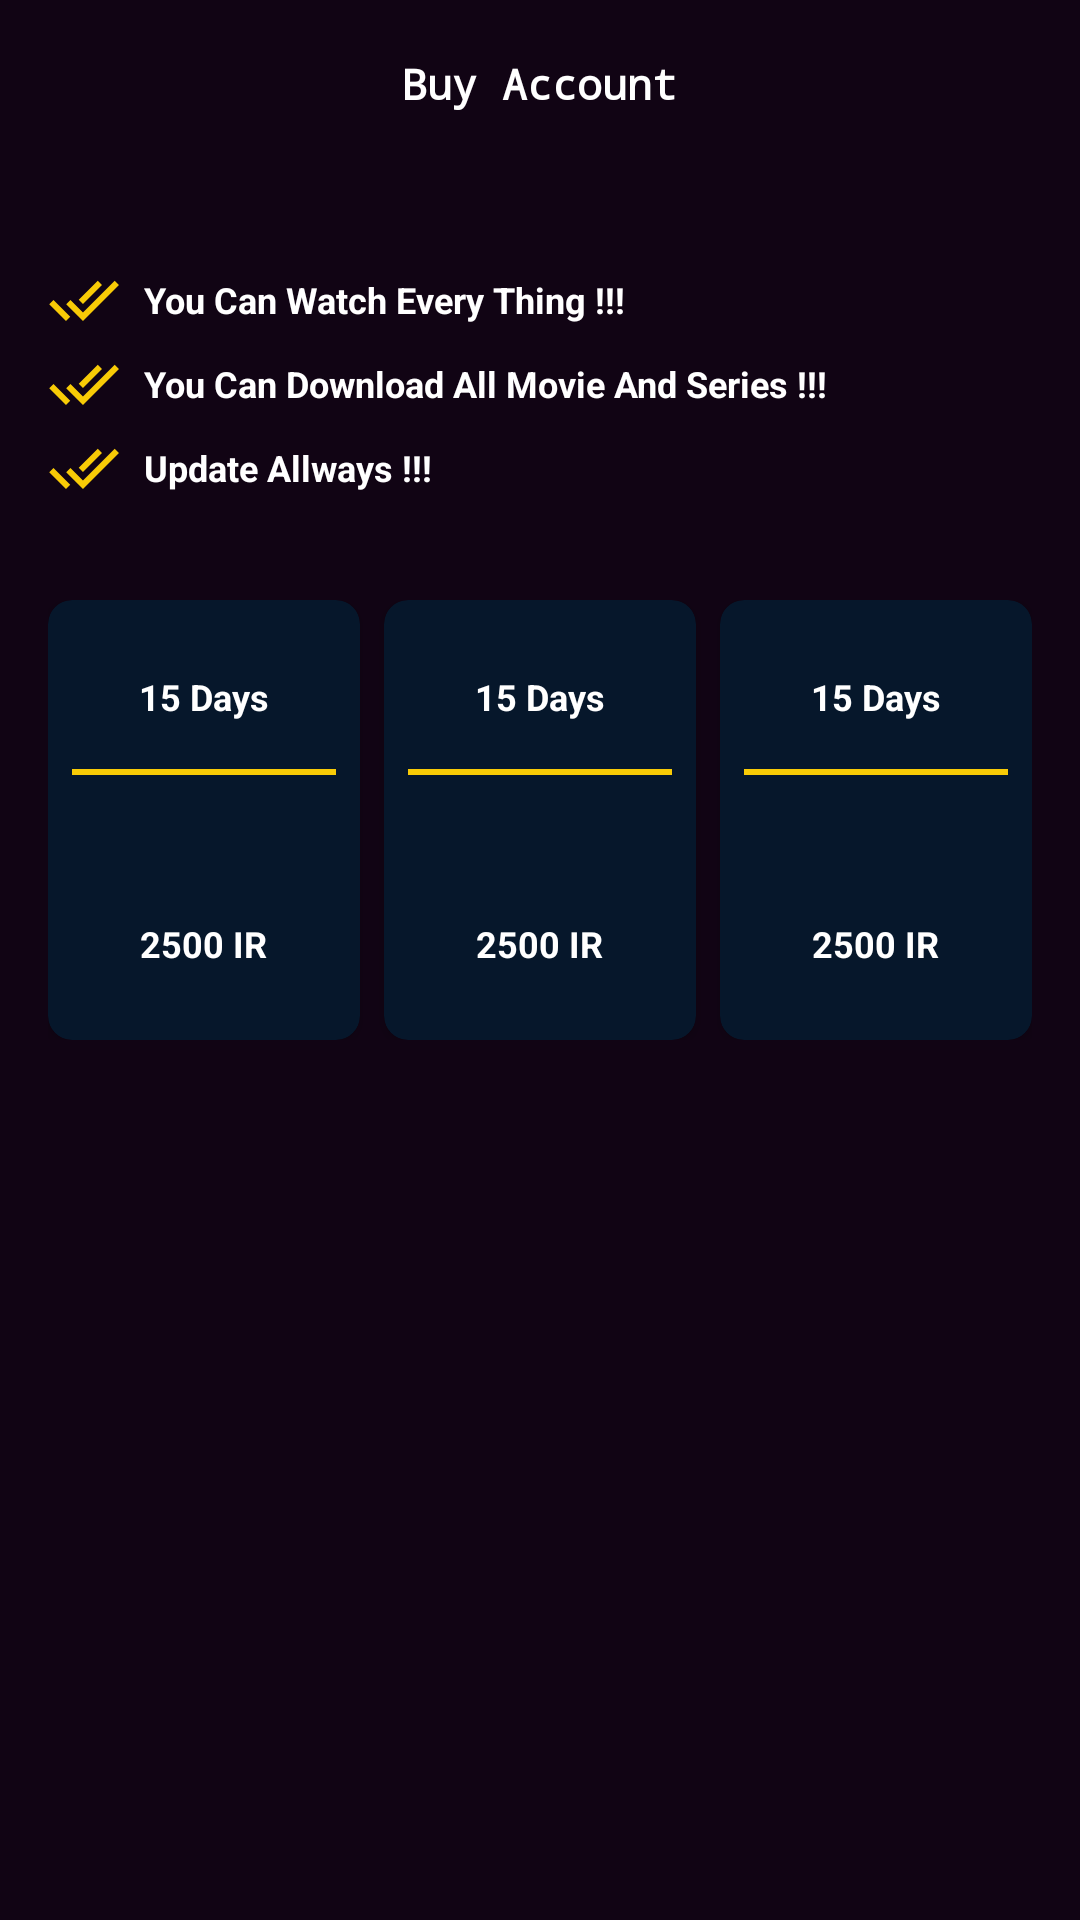

Locate icon controls on the screen. Image size 1080x1920, boxes as (x1, y1, x2, y2).
done all: (49, 281, 119, 321), (49, 365, 119, 405), (49, 449, 119, 489)
